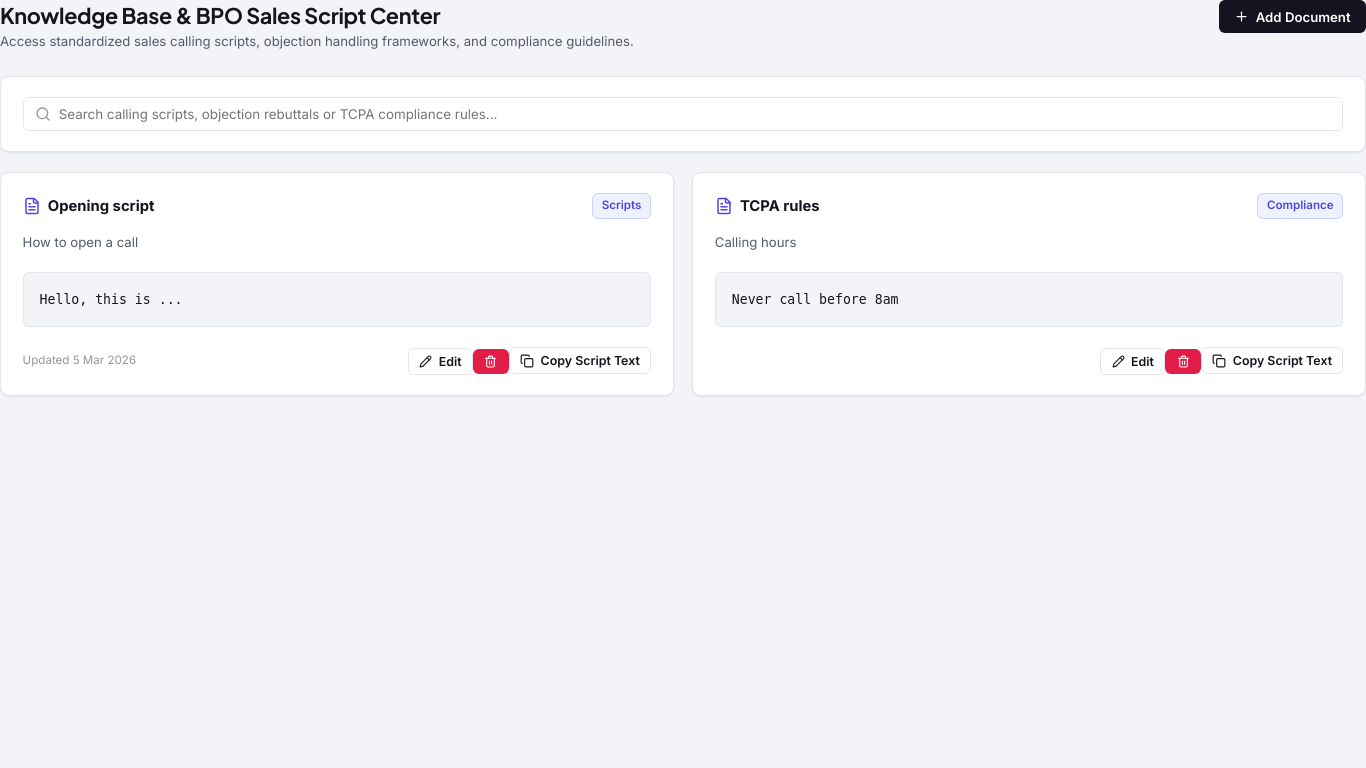
Test: KnowledgeBase › shows the server's reason if saving fails, and keeps the form open with the text intact
Click the button "Add Document" at (1292, 17), box [1219,0,1365,33]
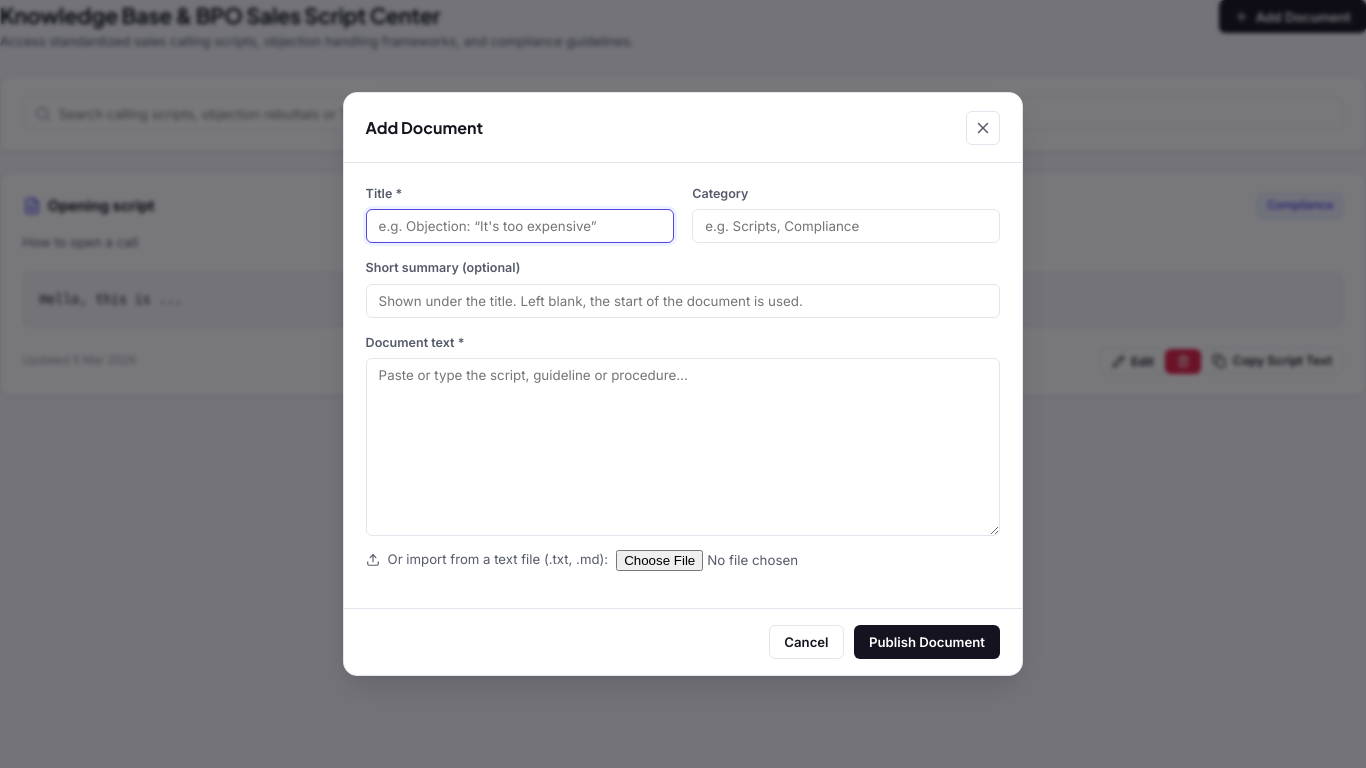
Type "T" into the field labelled "Title *" at (520, 226), box [366,209,674,243]
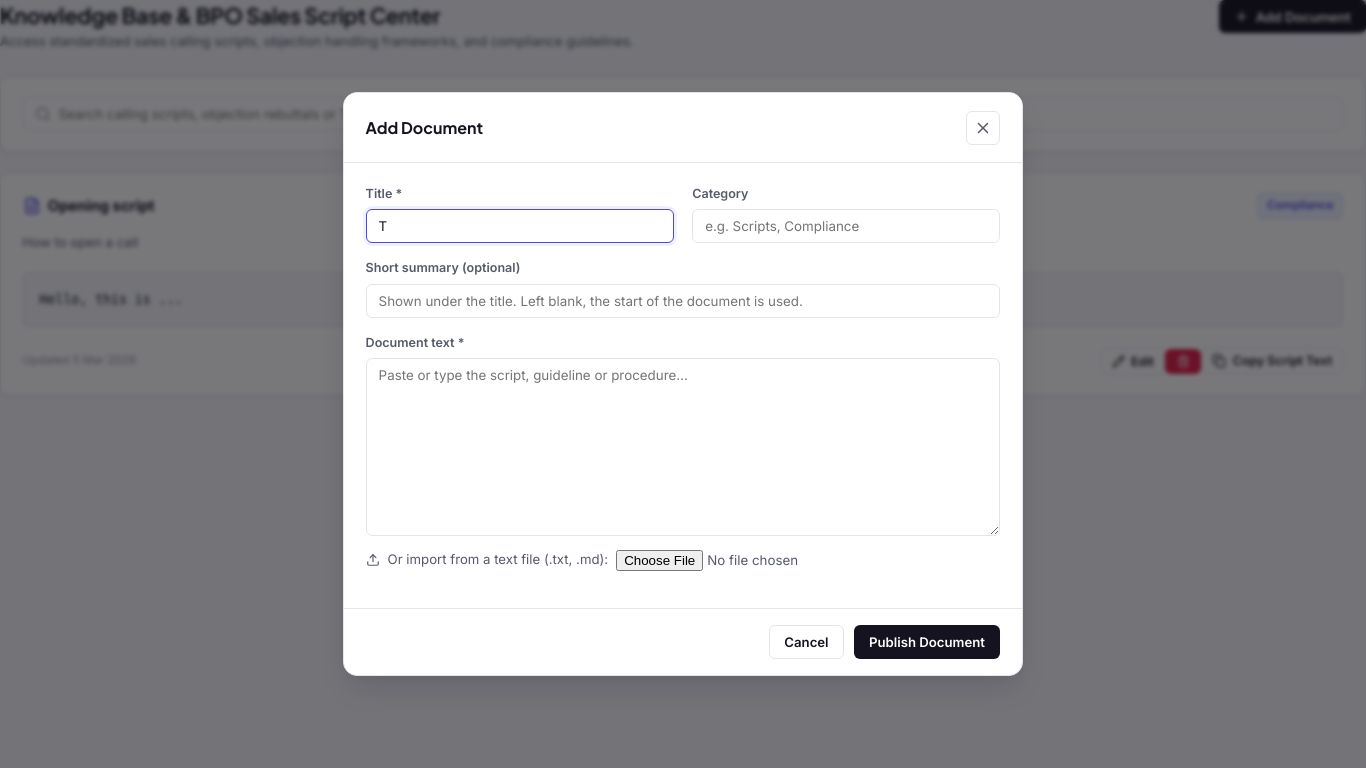
Type "Body" into the text box labelled "Document text *" at (683, 447), box [366,358,1000,536]
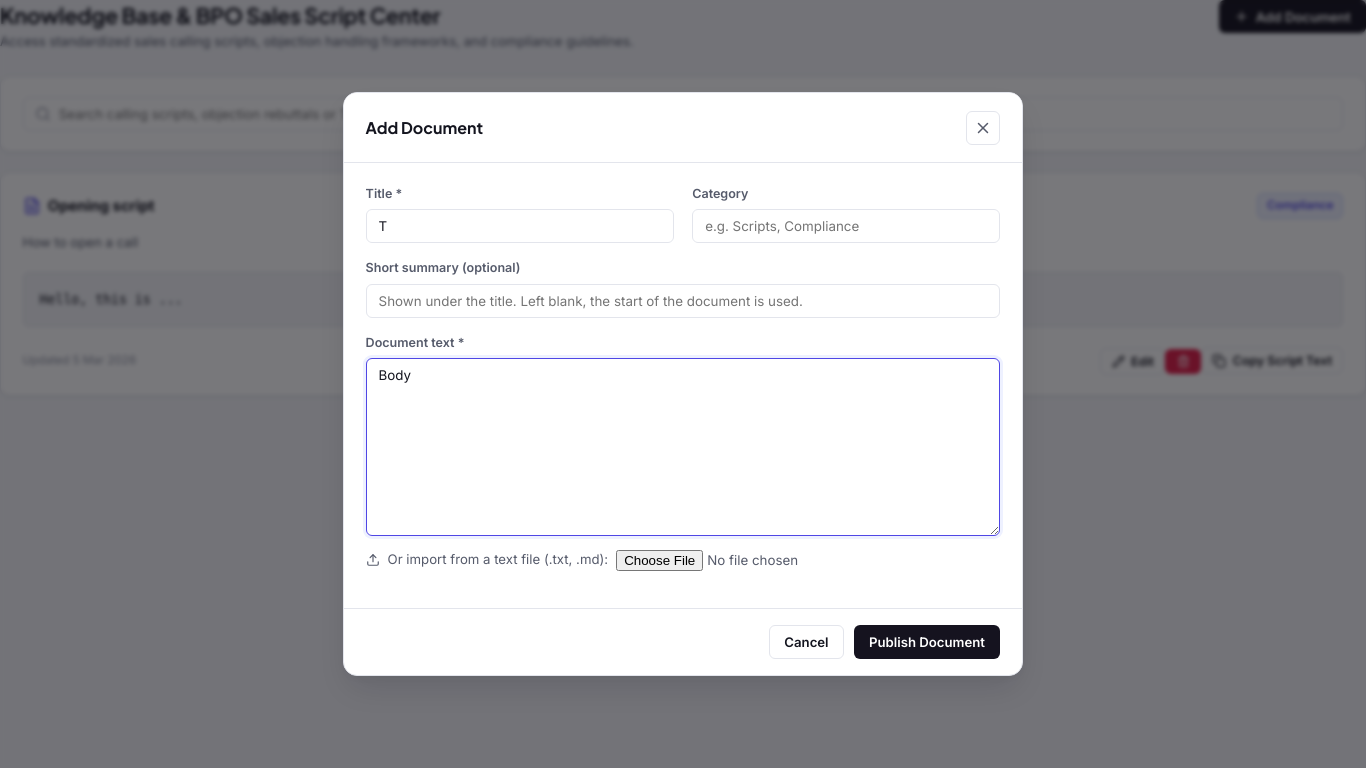
Click the button "Publish Document" at (927, 642), box [854,626,1000,659]
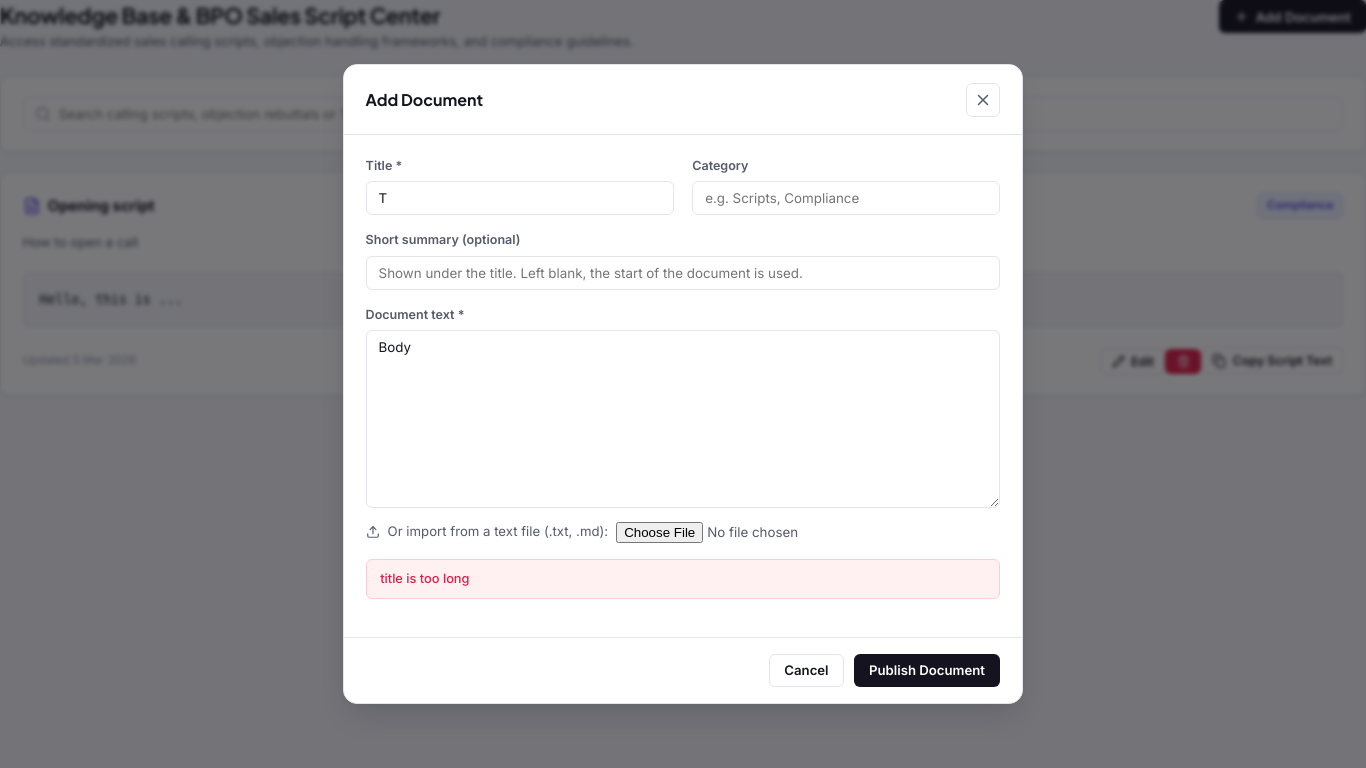
Result: the message reads "title is too long" at [380,571,470,586]
